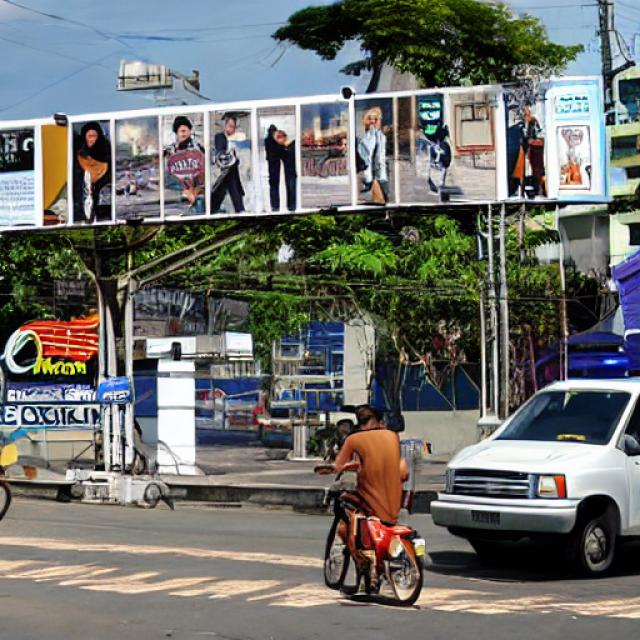Billboard: (1, 75, 604, 234)
